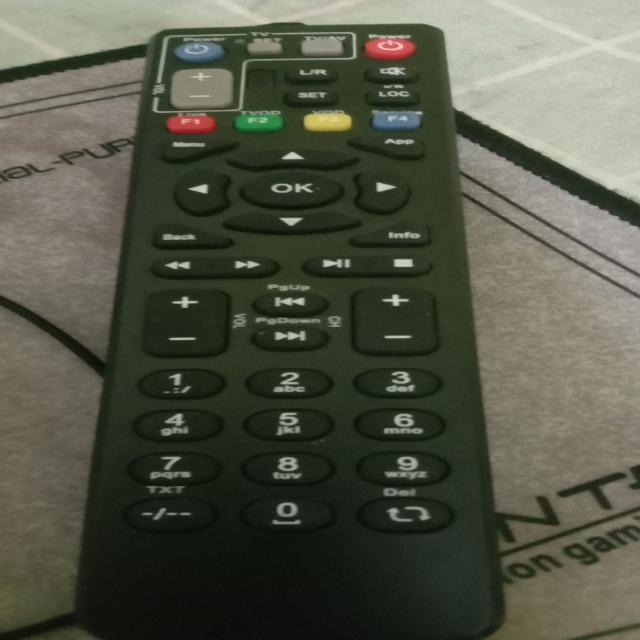remote: (62, 23, 498, 640)
